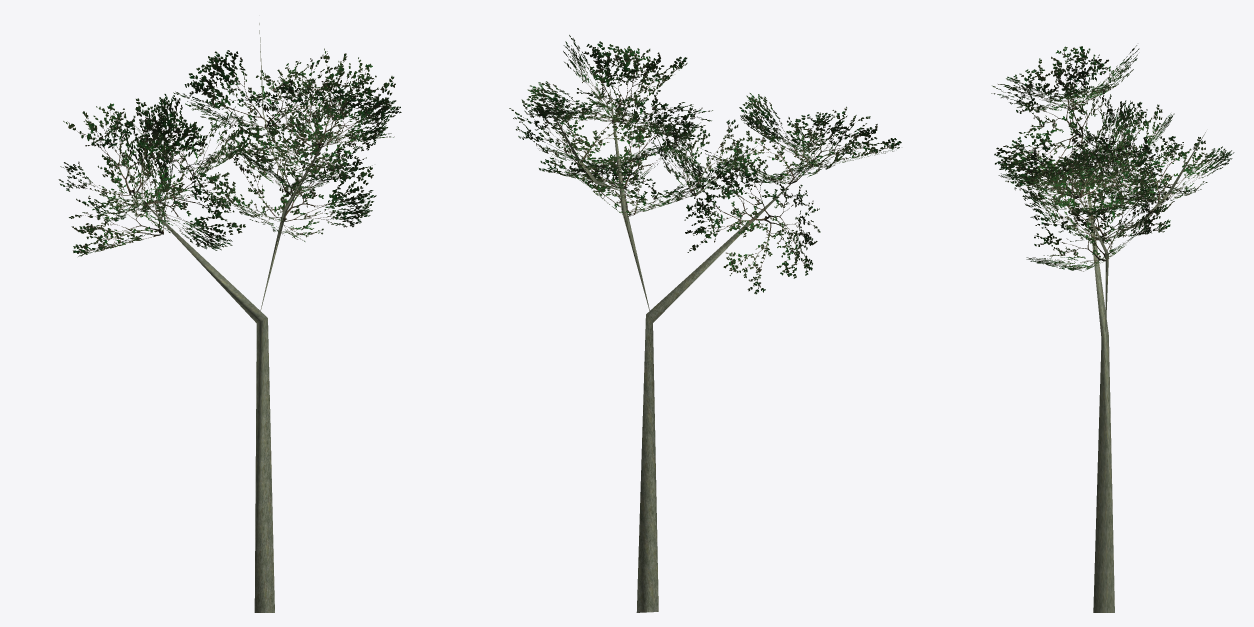
Rendered from nboo_decd_cambylictustree_a1_l3.fbx.
The picture shows the model from 3 angles, left to right: view 1: azimuth 30°, elevation 25°; view 2: azimuth 150°, elevation 25°; view 3: azimuth 270°, elevation 25°; orthographic projection. The views are drawn at different scales.
Parts seen in each view (by area): view 1: mesh_node; view 2: mesh_node; view 3: mesh_node.
Part boxes in pixels (box(x1,y1,x2,y2)): mesh_node: box(58, 23, 401, 612); mesh_node: box(509, 35, 901, 612); mesh_node: box(991, 45, 1234, 612).
Bounding box in the file's own units: 24.7 × 36.28 × 17.38.
